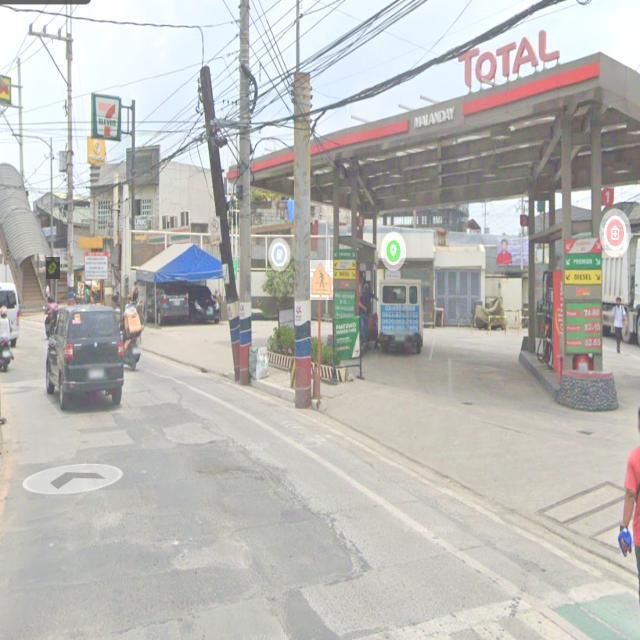bike lane: (46, 257, 60, 279)
pedestrian crossing: (310, 260, 333, 300)
